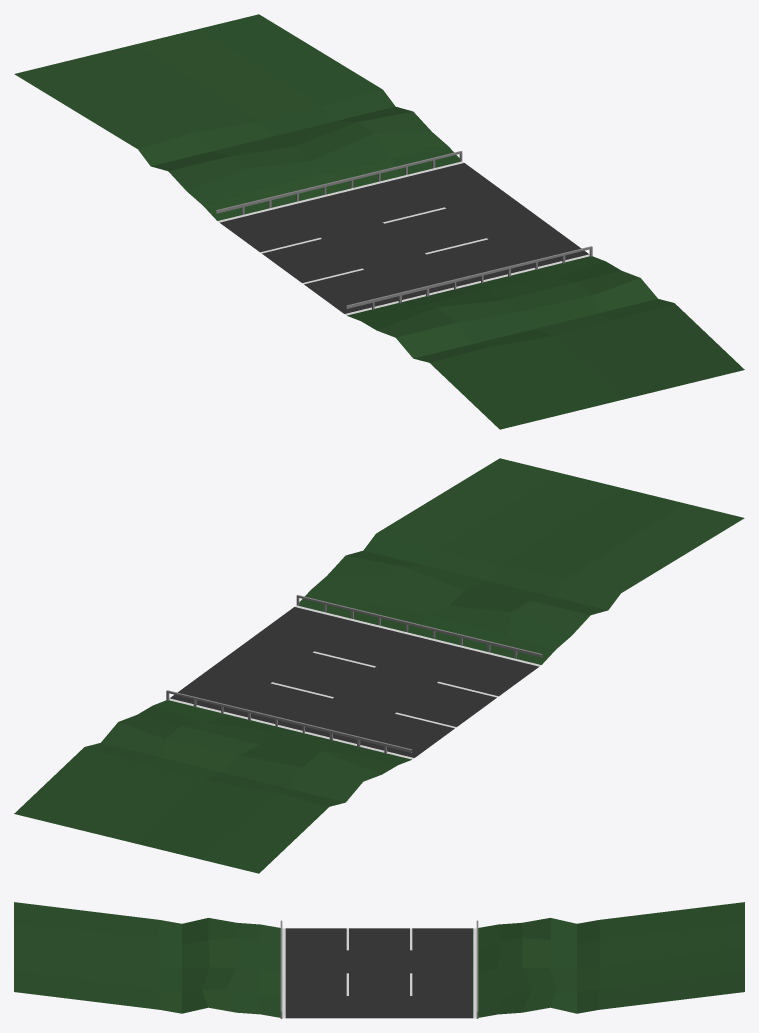
File: Road.glb
3 renders of one model, top to bottom at view 1: azimuth 30°, elevation 25°; view 2: azimuth 150°, elevation 25°; view 3: azimuth 270°, elevation 25°, orthographic. The views are drawn at different scales.
Visible parts, largest first — view 1: Floor, Cube; view 2: Floor, Cube; view 3: Floor, Cube.
Boxes of the visible parts, x1,y1,x2,y2 form: Floor: (14, 14, 744, 429); Cube: (216, 151, 592, 309); Floor: (14, 458, 744, 873); Cube: (166, 595, 542, 753); Floor: (14, 902, 744, 1018); Cube: (280, 920, 478, 1018).
Size of the model in its own units: 11.09 by 0.9331 by 34.34.
